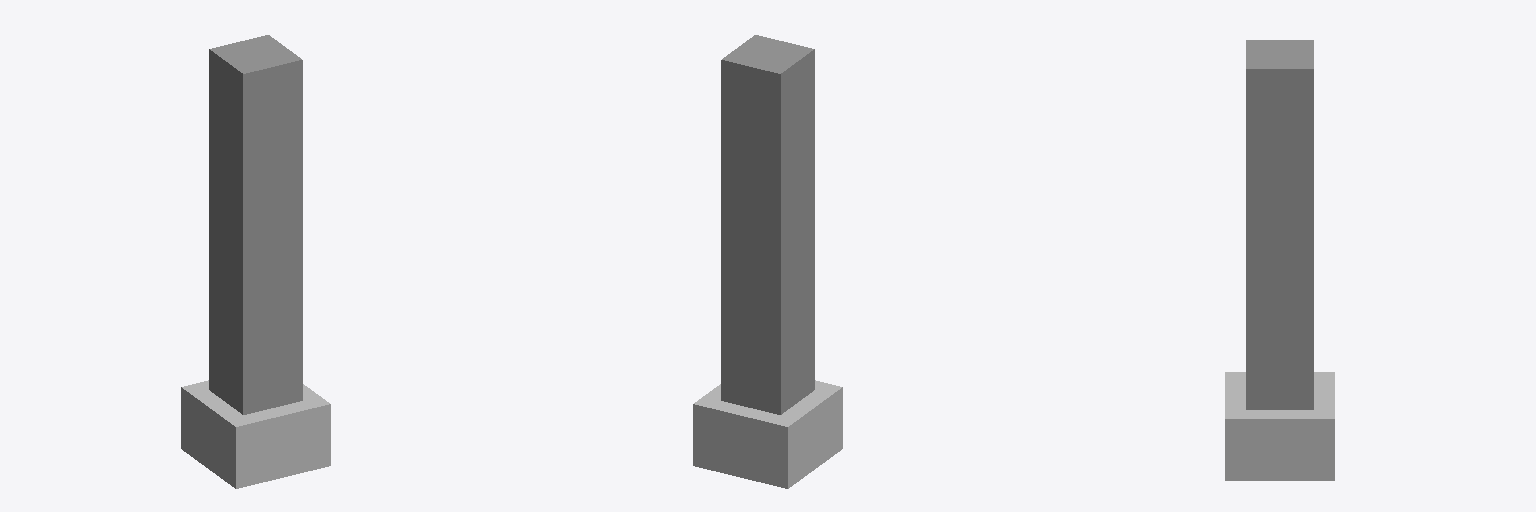
File: panel_pillar.obj
The picture shows the model from 3 angles: view 1: azimuth 30°, elevation 25°; view 2: azimuth 150°, elevation 25°; view 3: azimuth 270°, elevation 25°; orthographic projection.
Parts seen in each view (by area): view 1: Cube, Cube.001; view 2: Cube, Cube.001; view 3: Cube, Cube.001.
Boxes of the visible parts, box(x1,y1,x2,y2) form: Cube: box(209, 35, 302, 414); Cube.001: box(181, 380, 330, 488); Cube: box(721, 35, 814, 414); Cube.001: box(693, 380, 842, 488); Cube: box(1246, 40, 1313, 409); Cube.001: box(1225, 372, 1334, 480).
Size of the model in its own units: 0.4 by 1.62 by 0.4.